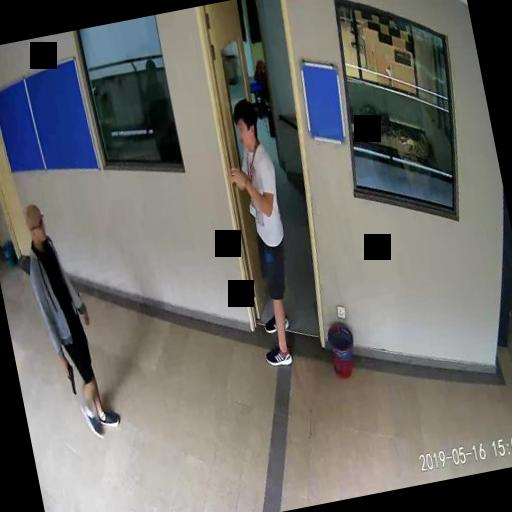Handgun: (60, 356, 76, 394)
